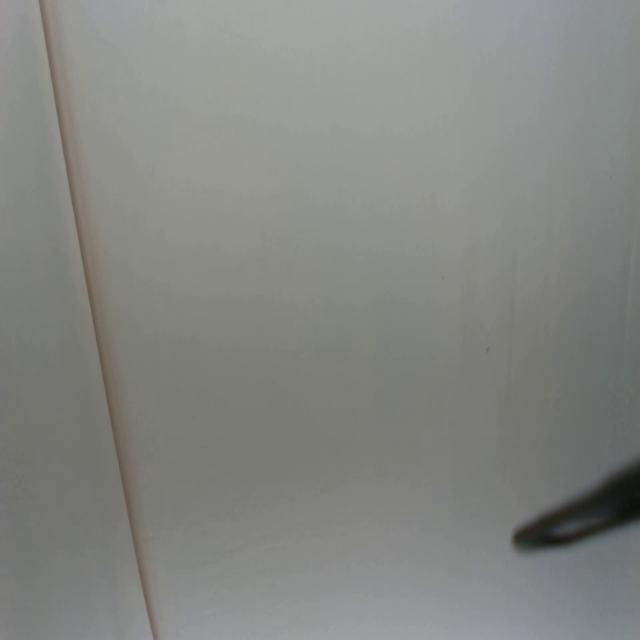crease: (37, 0, 157, 640)
